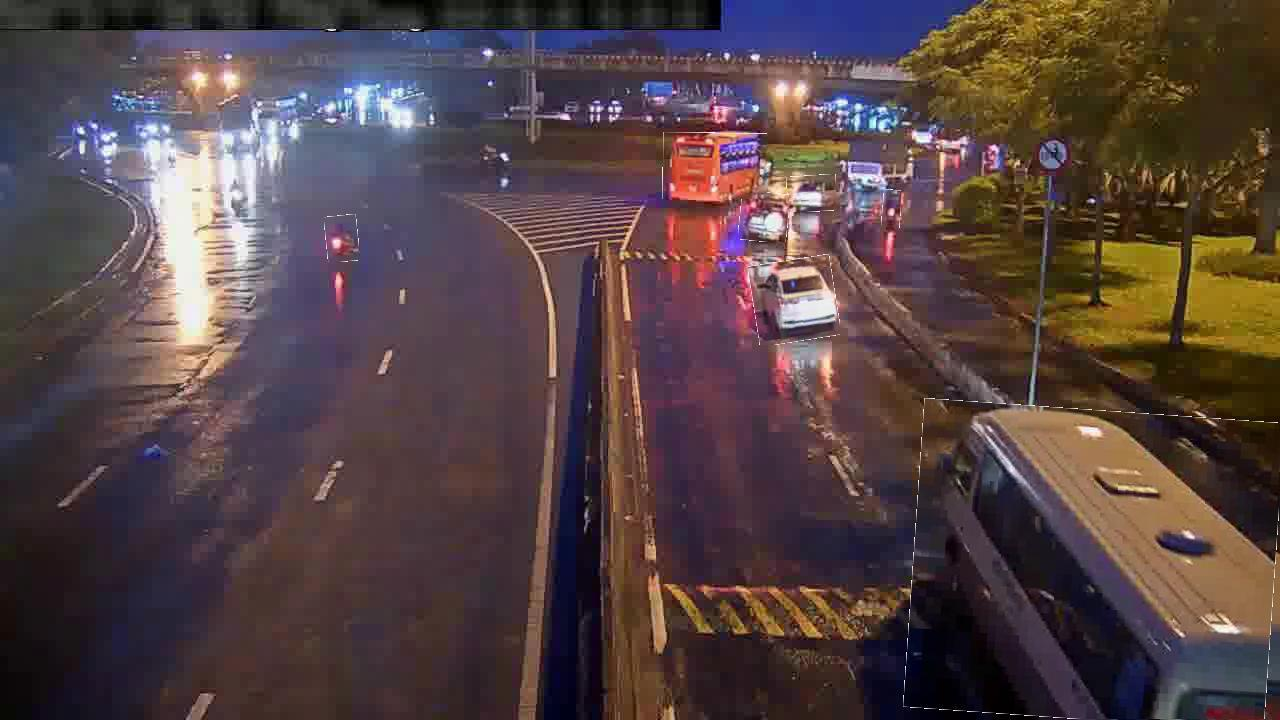14: (908, 404, 1279, 720), (663, 133, 768, 200)
container: (751, 257, 839, 344), (739, 191, 789, 242), (787, 175, 837, 213)
motorbike: (325, 215, 359, 263), (882, 190, 902, 231)
